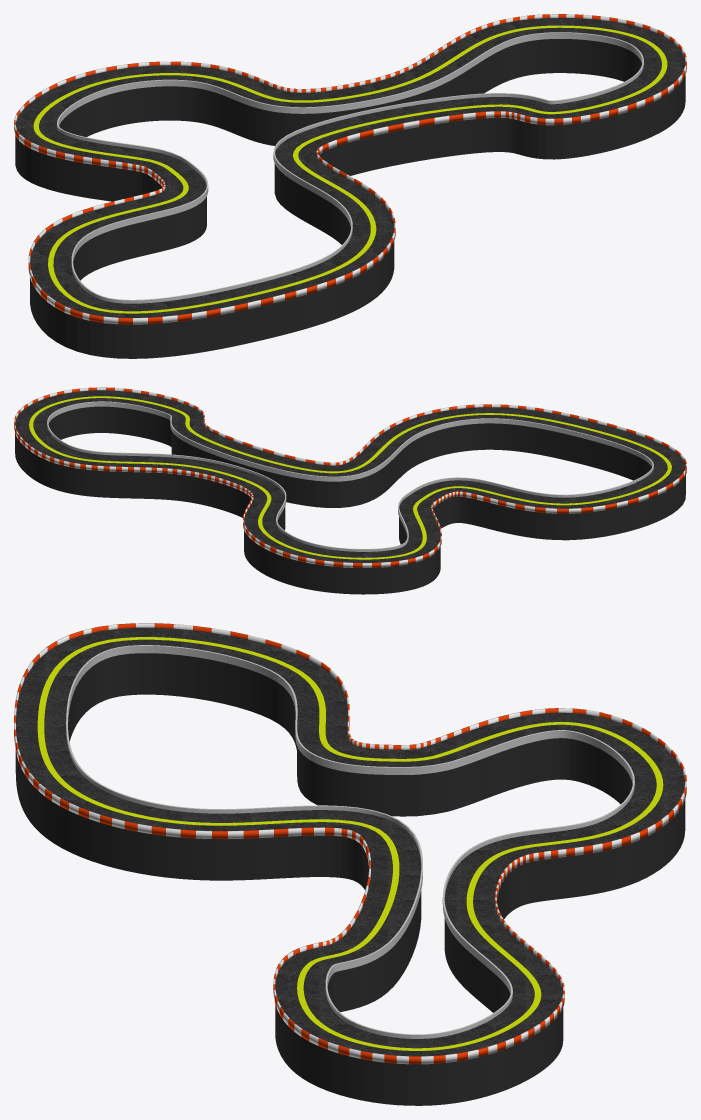
File: tracdsh.fbx
3 renders of one model, top to bottom at view 1: azimuth 30°, elevation 25°; view 2: azimuth 150°, elevation 25°; view 3: azimuth 270°, elevation 25°, orthographic. The views are drawn at different scales.
Parts seen in each view (by area): view 1: NurbsCurve, NurbsCurve.001, NurbsCurve.004, NurbsCurve.003; view 2: NurbsCurve, NurbsCurve.001, NurbsCurve.004, NurbsCurve.003; view 3: NurbsCurve, NurbsCurve.001, NurbsCurve.004, NurbsCurve.003.
Boxes of the visible parts, box(x1,y1,x2,y2) form: NurbsCurve: box(15, 39, 685, 358); NurbsCurve.001: box(15, 18, 685, 317); NurbsCurve.004: box(14, 14, 686, 324); NurbsCurve.003: box(57, 32, 643, 303); NurbsCurve: box(15, 406, 685, 594); NurbsCurve.001: box(15, 390, 685, 562); NurbsCurve.004: box(14, 387, 686, 567); NurbsCurve.003: box(47, 401, 653, 551); NurbsCurve: box(15, 653, 685, 1105); NurbsCurve.001: box(16, 627, 684, 1056); NurbsCurve.004: box(14, 623, 686, 1064); NurbsCurve.003: box(66, 645, 634, 1038).
Size of the model in its own units: 5712 by 304 by 3743.
